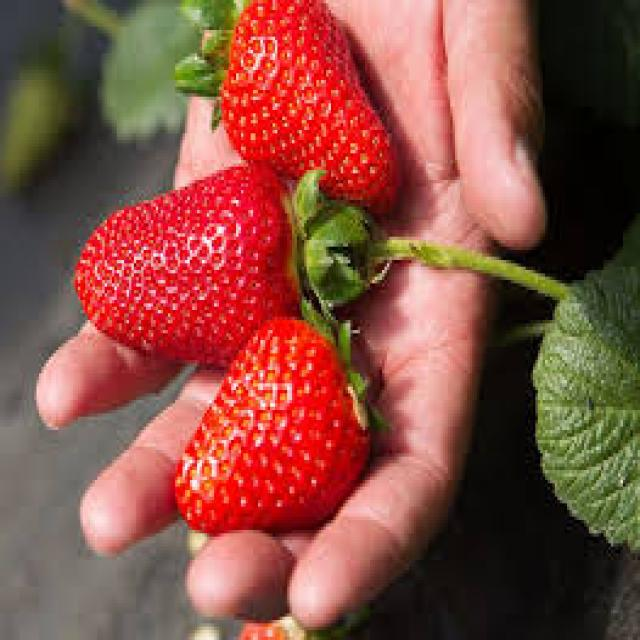strawberry: (162, 3, 428, 220), (69, 166, 316, 348), (170, 315, 374, 527)
